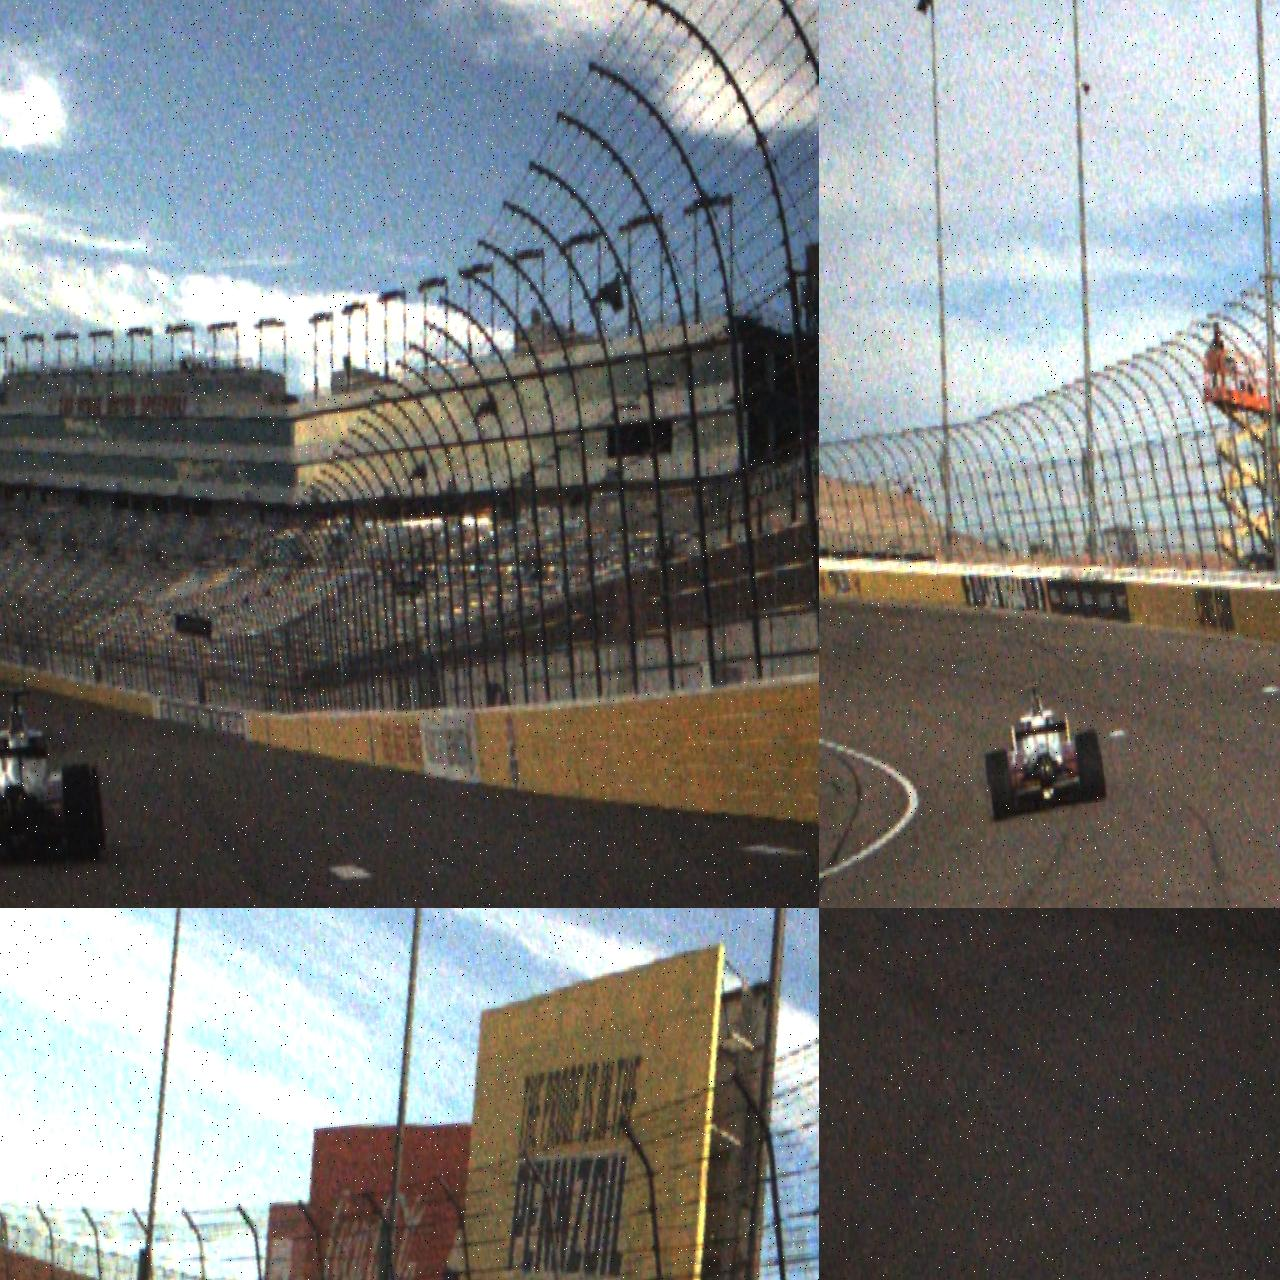AV: (0, 679, 110, 879), (980, 678, 1107, 822)
Wheel: (61, 761, 102, 865), (1076, 730, 1105, 803), (987, 750, 1014, 821)
